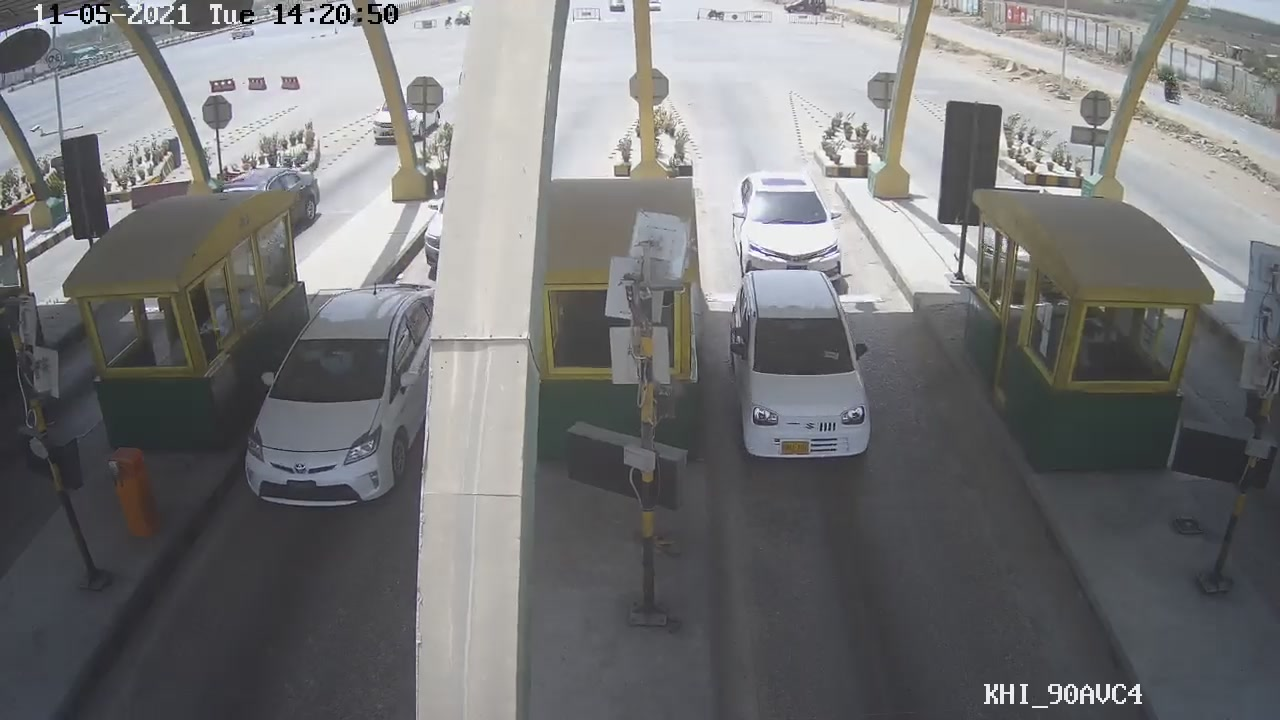F1: (725, 266, 880, 464)
